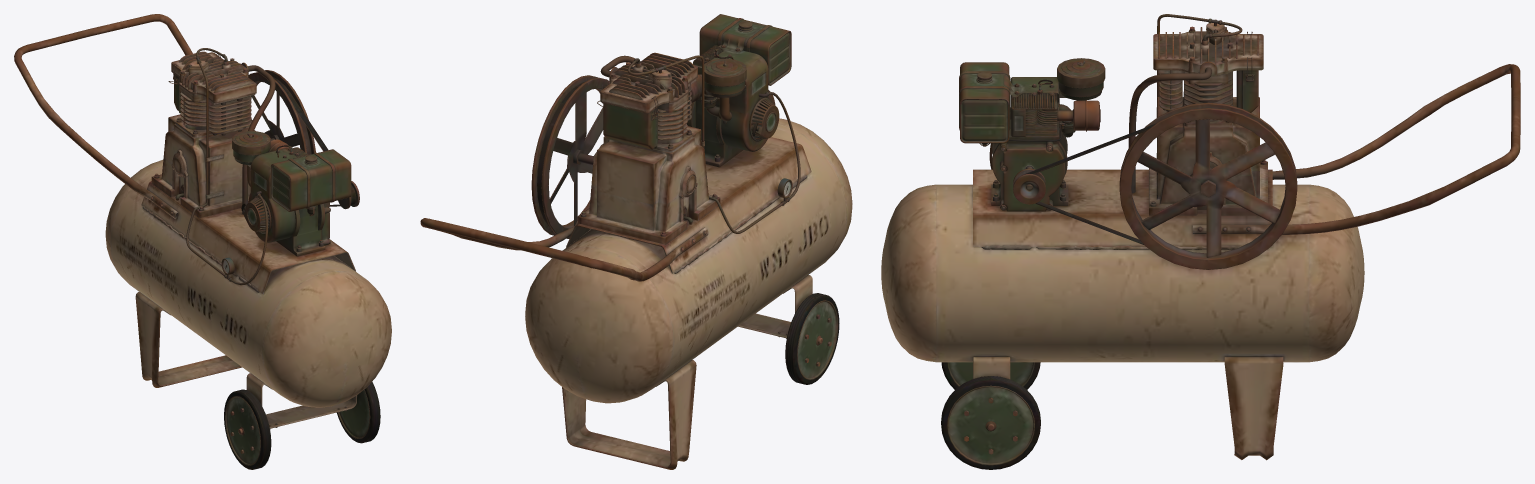
File: old_military_compressor.glb
3 renders of one model, left to right at view 1: azimuth 30°, elevation 25°; view 2: azimuth 150°, elevation 25°; view 3: azimuth 270°, elevation 25°, orthographic. The views are drawn at different scales.
Visible parts, largest first — view 1: old_military_compressor; view 2: old_military_compressor; view 3: old_military_compressor.
Boxes of the visible parts, x1=… form: old_military_compressor: x1=14, y1=14, x2=391, y2=469; old_military_compressor: x1=420, y1=14, x2=852, y2=469; old_military_compressor: x1=881, y1=14, x2=1520, y2=469.
Bounding box in the file's own units: 0.5983 × 1.18 × 1.68.
2 materials, 2 textured.
